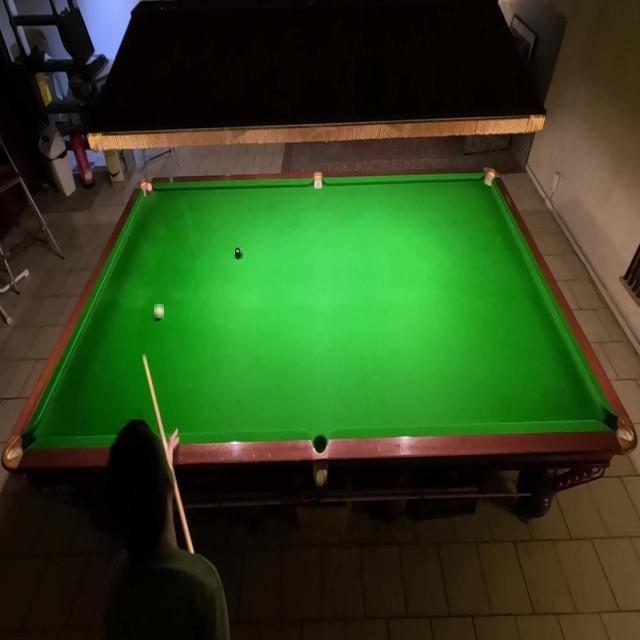Ball: (154, 304, 164, 318), (236, 247, 242, 259), (146, 184, 152, 194)
